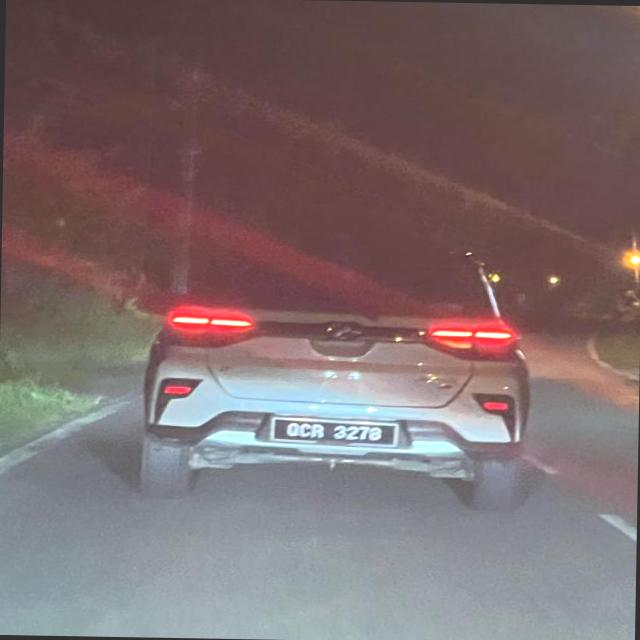PeroduaAtiva: (135, 244, 534, 511)
